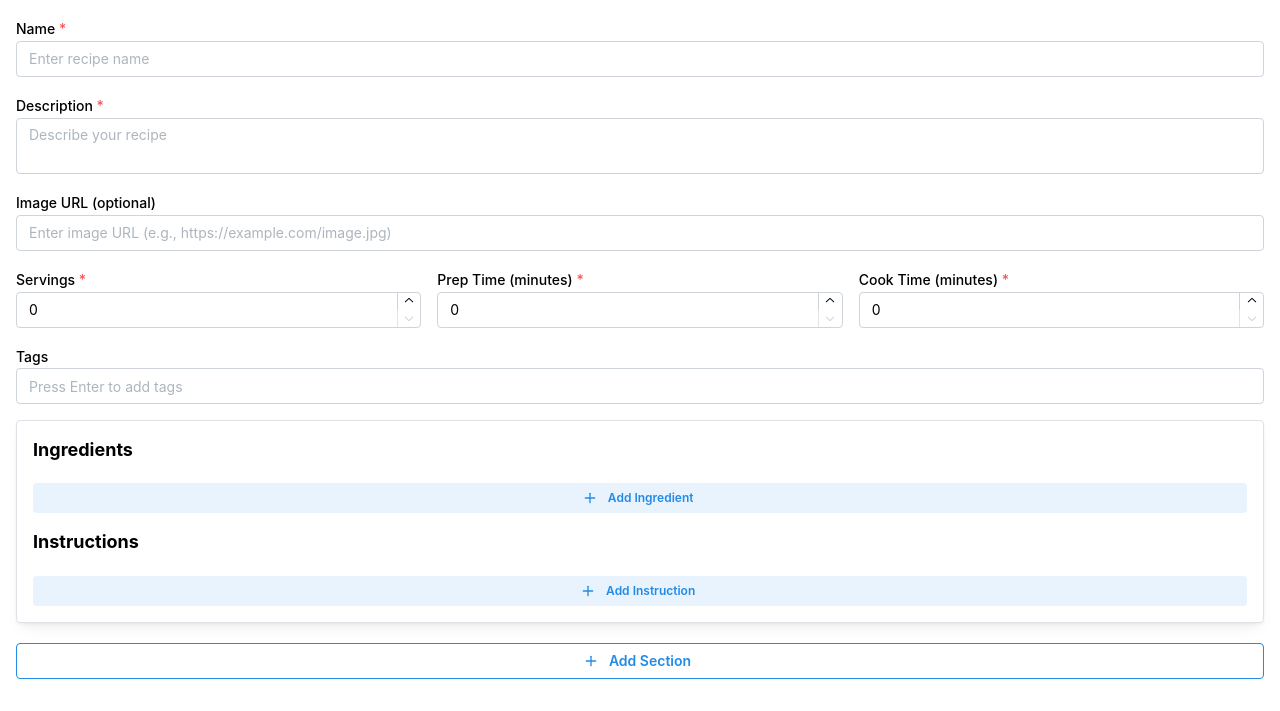
Test: RecipeForm - Sections Structure › Ingredients and instructions within sections › should allow adding ingredients to a section
The width and height of the screenshot is (1280, 711).
# Click "Add Ingredient"
Click the button "Add Ingredient": point(640, 498) [33, 484, 1247, 514]
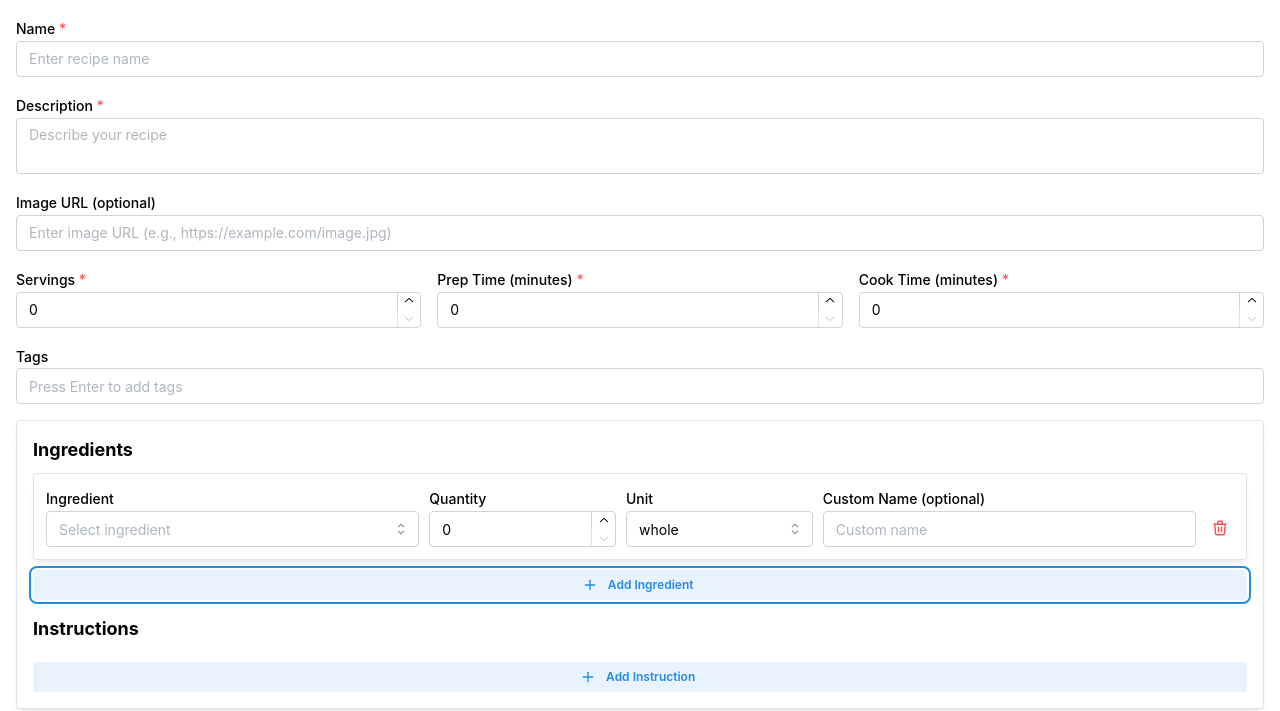
Now the field labelled "Quantity" is shown, box [429, 511, 616, 547]
Now the field labelled "Unit" is shown, box [626, 511, 813, 547]
